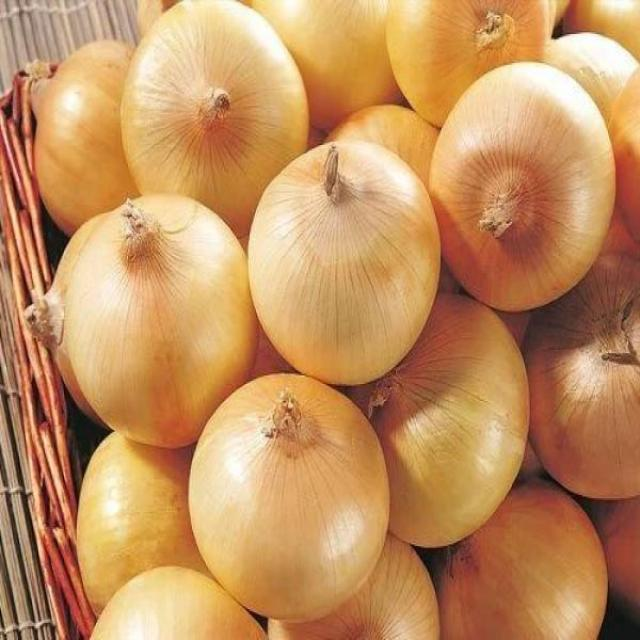Onion: (44, 182, 266, 427), (238, 136, 437, 398), (185, 358, 383, 601), (418, 62, 613, 303), (117, 4, 321, 209), (362, 302, 528, 526), (433, 511, 616, 640), (536, 284, 640, 470), (65, 560, 269, 640)
